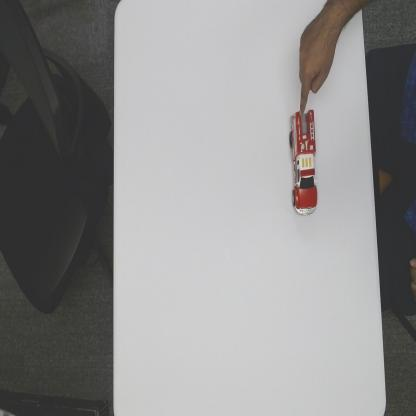Firetruck: (288, 108, 318, 218)
Hand: (297, 9, 338, 107)
